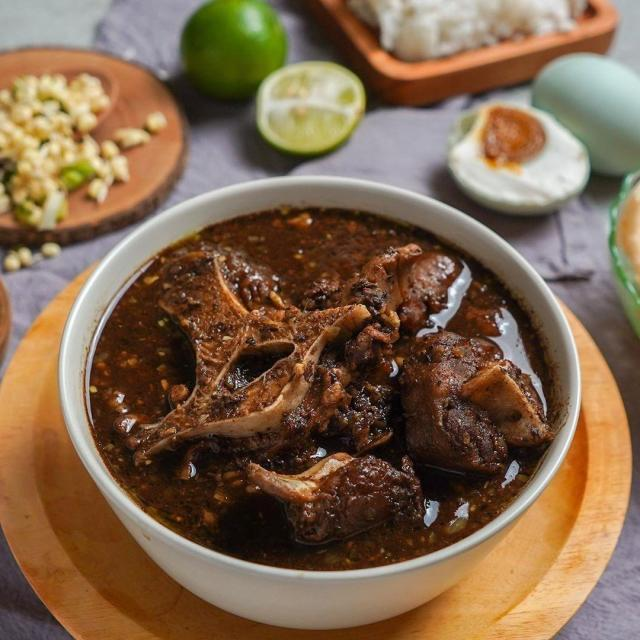Rawon: (71, 226, 540, 567)
